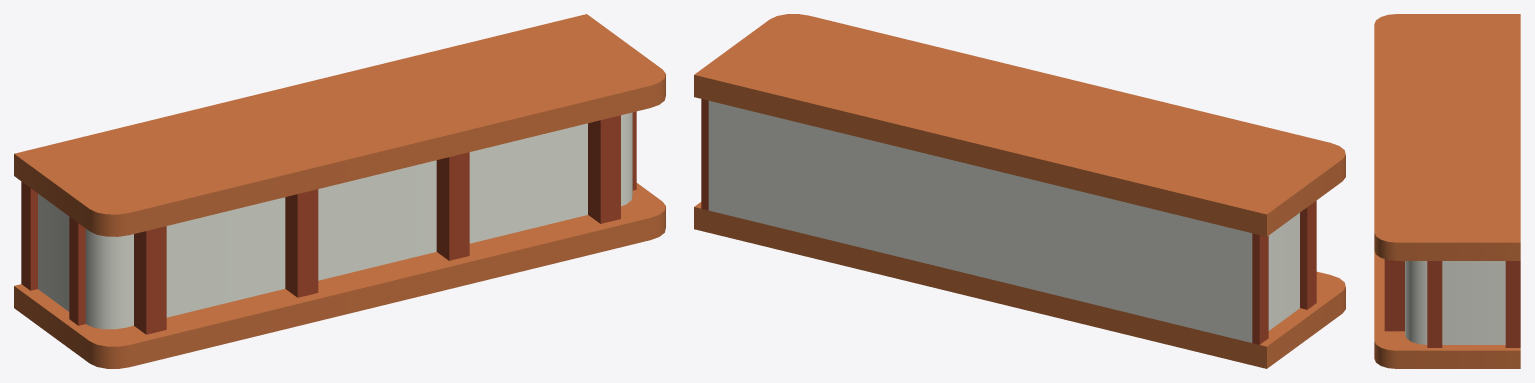
File: TableB7_geo.fbx
3 views of the same model, side by side, from view 1: azimuth 30°, elevation 25°; view 2: azimuth 150°, elevation 25°; view 3: azimuth 270°, elevation 25° (orthographic). The views are drawn at different scales.
Visible parts, largest first — view 1: TableB7_geo; view 2: TableB7_geo; view 3: TableB7_geo.
Part boxes in pixels (bbox=[...]): TableB7_geo: bbox=[14, 14, 665, 368]; TableB7_geo: bbox=[694, 14, 1345, 368]; TableB7_geo: bbox=[1374, 14, 1520, 368].
Bounding box in the file's own units: 2.64 × 0.7143 × 0.6803.
